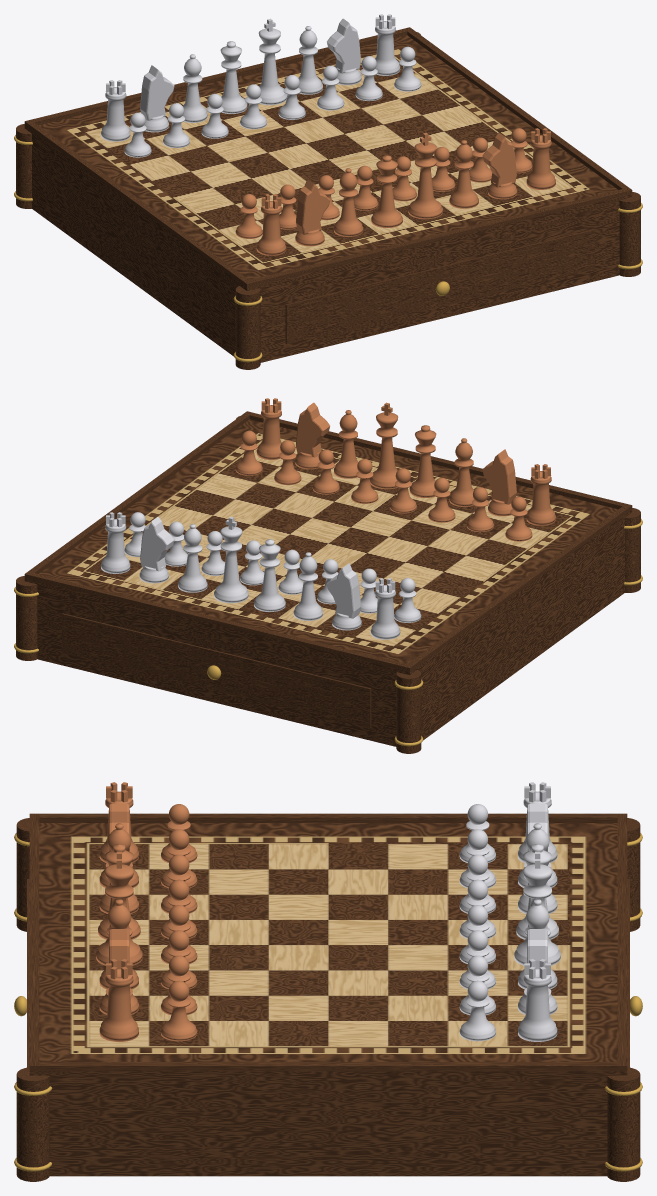
File: philidor-3d-loupe-noyer-32-v2.glb
3 views of the same model, one above another, from view 1: azimuth 30°, elevation 25°; view 2: azimuth 150°, elevation 25°; view 3: azimuth 270°, elevation 25° (orthographic). The views are drawn at different scales.
Parts seen in each view (by area): view 1: loupe-noyer-32; view 2: loupe-noyer-32; view 3: loupe-noyer-32.
Boxes of the visible parts, left/top/right/bottom form: loupe-noyer-32: left=14, top=14, right=642, bottom=369; loupe-noyer-32: left=14, top=398, right=642, bottom=753; loupe-noyer-32: left=14, top=782, right=642, bottom=1181.
Size of what is drawn, in the model's own units: 0.3368 by 0.124 by 0.3368.
Materials: 10 (7 with a texture image).
